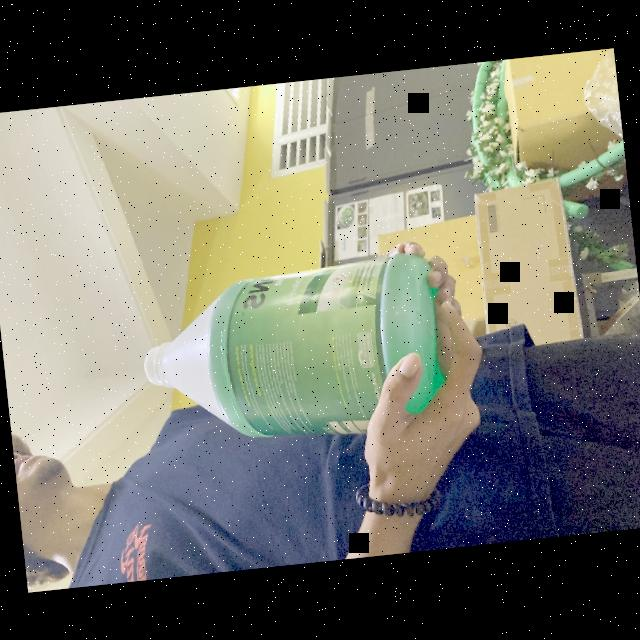chemical_plastic_gallon: (126, 252, 453, 462)
